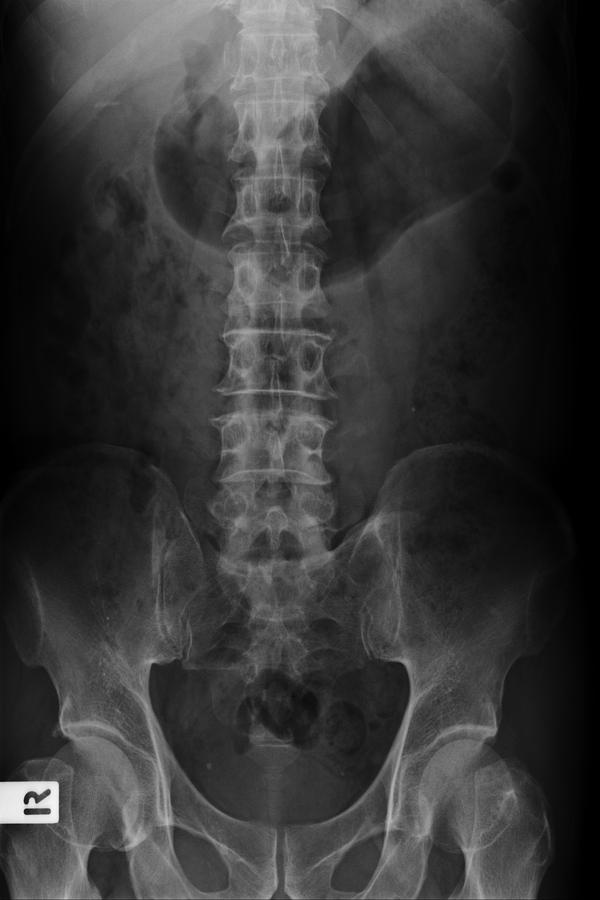not lumbar scoliosis: (211, 190, 347, 597)
